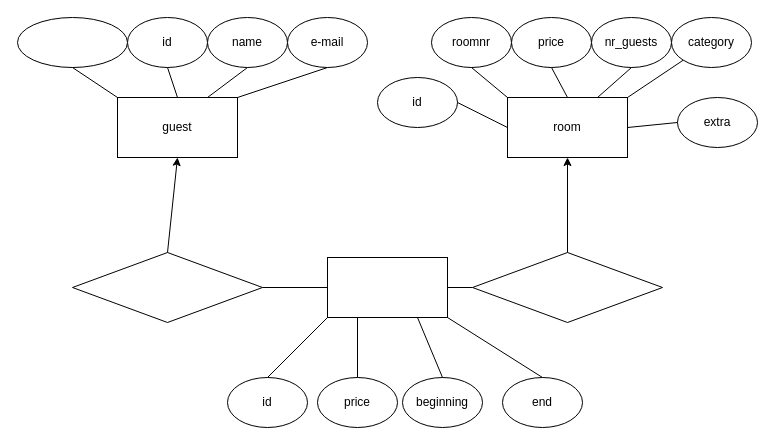
Some shapes in this 775 by 445 pixel diagram are drawn without their labels. Each missing label, with the centre of its shape:
booked room: pixel 567 287
booking: pixel 387 287
booking guest: pixel 167 287
phone_number: pixel 72 42
